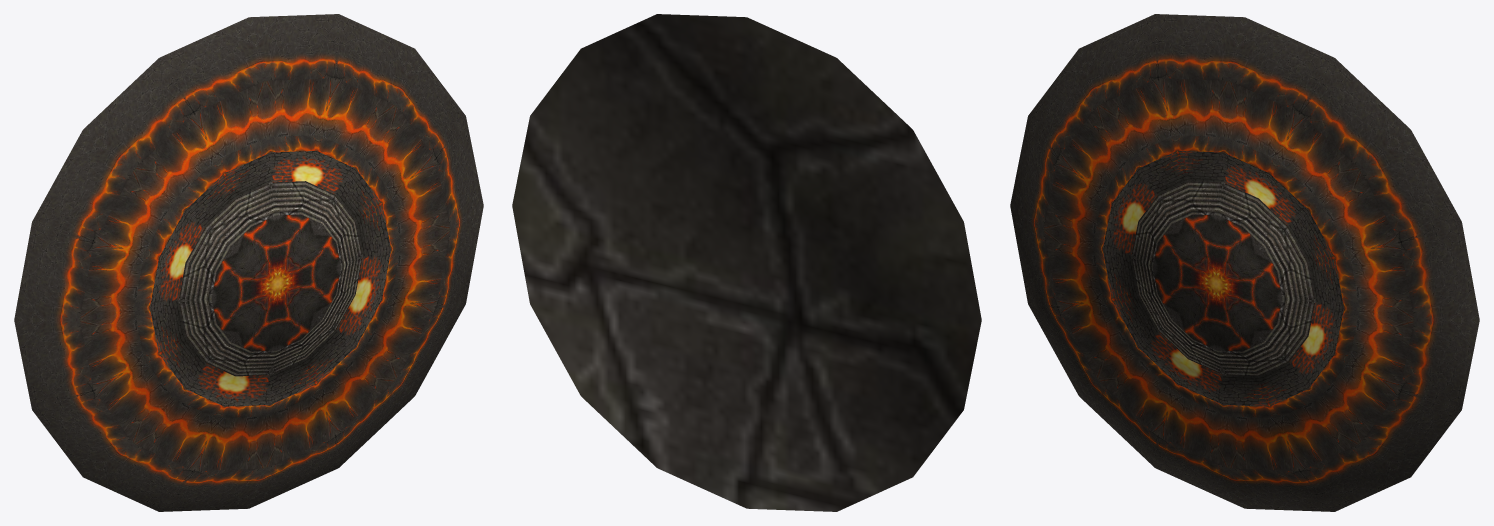
Rendered from arena_04.obj.
3 views of the same model, side by side, from view 1: azimuth 30°, elevation 25°; view 2: azimuth 150°, elevation 25°; view 3: azimuth 330°, elevation 25° (orthographic).
Parts seen in each view (by area): view 1: (null); view 2: (null); view 3: (null).
Part boxes in pixels (x1,y1,x2,y2): (null): (14,14,483,511); (null): (512,14,981,511); (null): (1010,14,1479,511).
Size of the model in its own units: 11.37 by 11.37 by 1.21.
